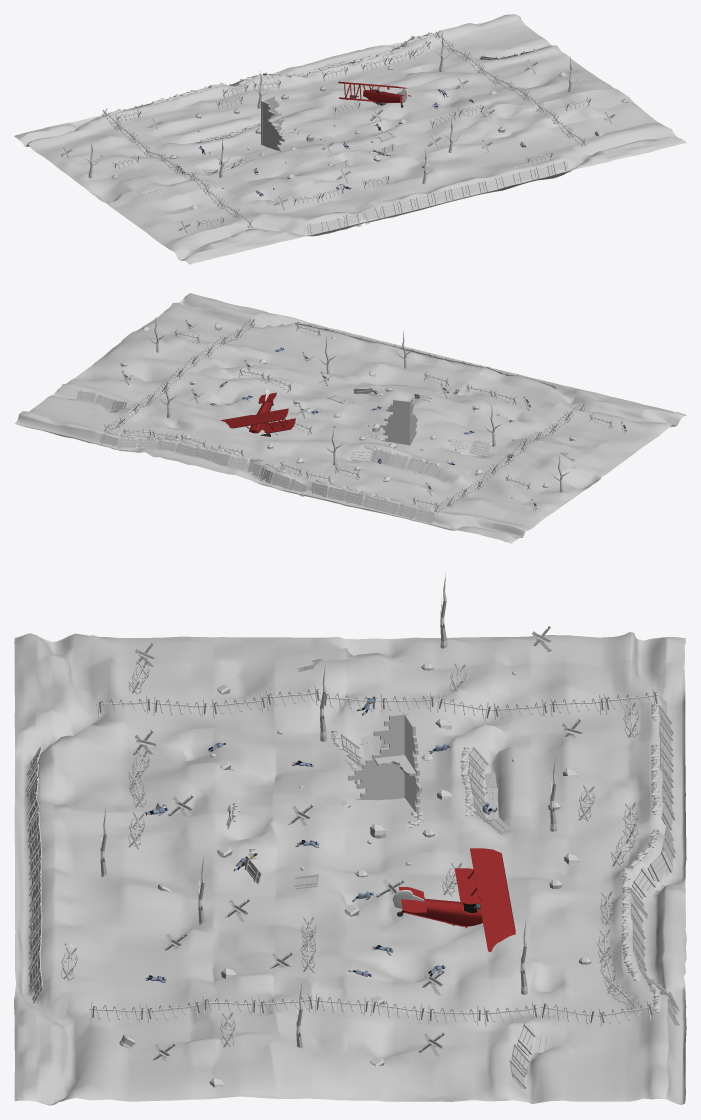
Rendered from Environment_v02.fbx.
3 views of the same model, one above another, from view 1: azimuth 30°, elevation 25°; view 2: azimuth 150°, elevation 25°; view 3: azimuth 270°, elevation 25° (orthographic). The views are drawn at different scales.
Parts seen in each view (by area): view 1: Environment_v02; view 2: Environment_v02; view 3: Environment_v02.
Boxes of the visible parts, <box> form: Environment_v02: <box>14,14,686,264</box>; Environment_v02: <box>15,293,686,543</box>; Environment_v02: <box>14,573,686,1105</box>.
Size of the model in its own units: 9049 by 1046 by 5520.
